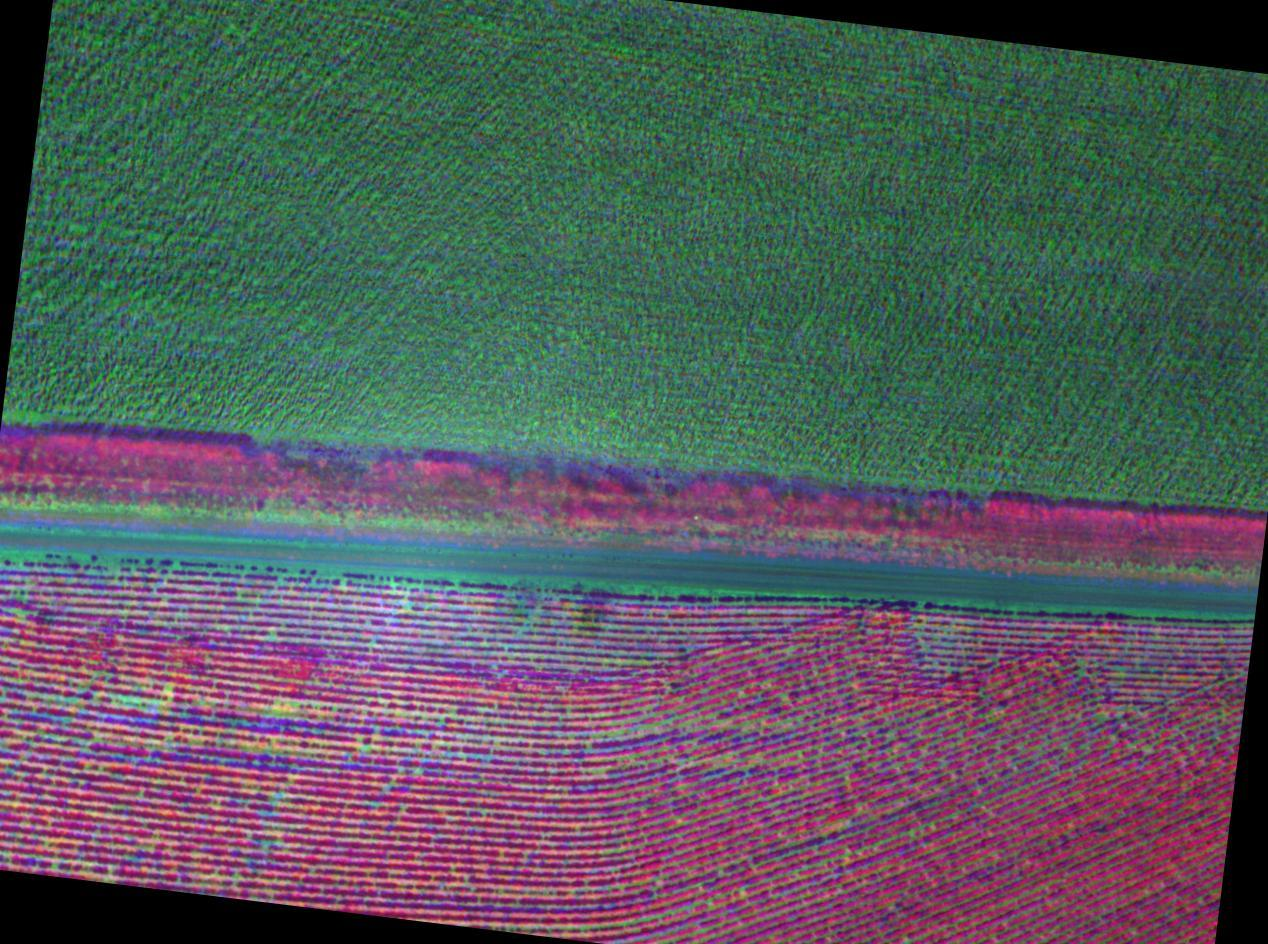dc: (79, 653, 208, 738), (265, 694, 393, 761)
